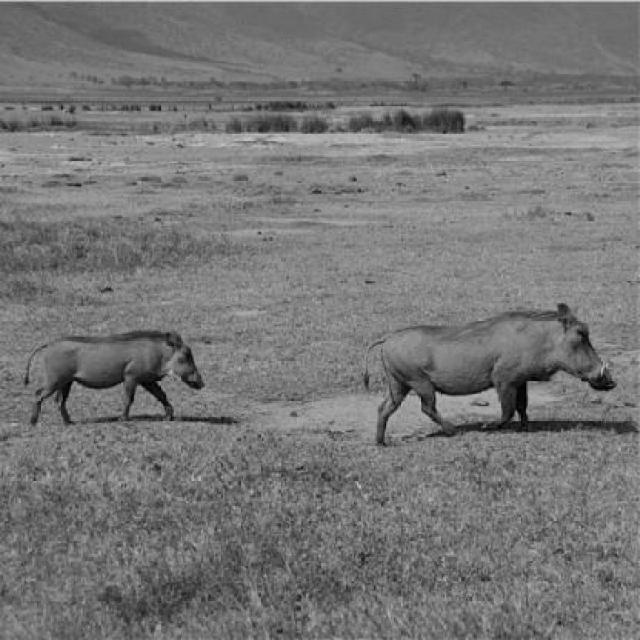Boar: (353, 253, 635, 462), (23, 301, 237, 457)
